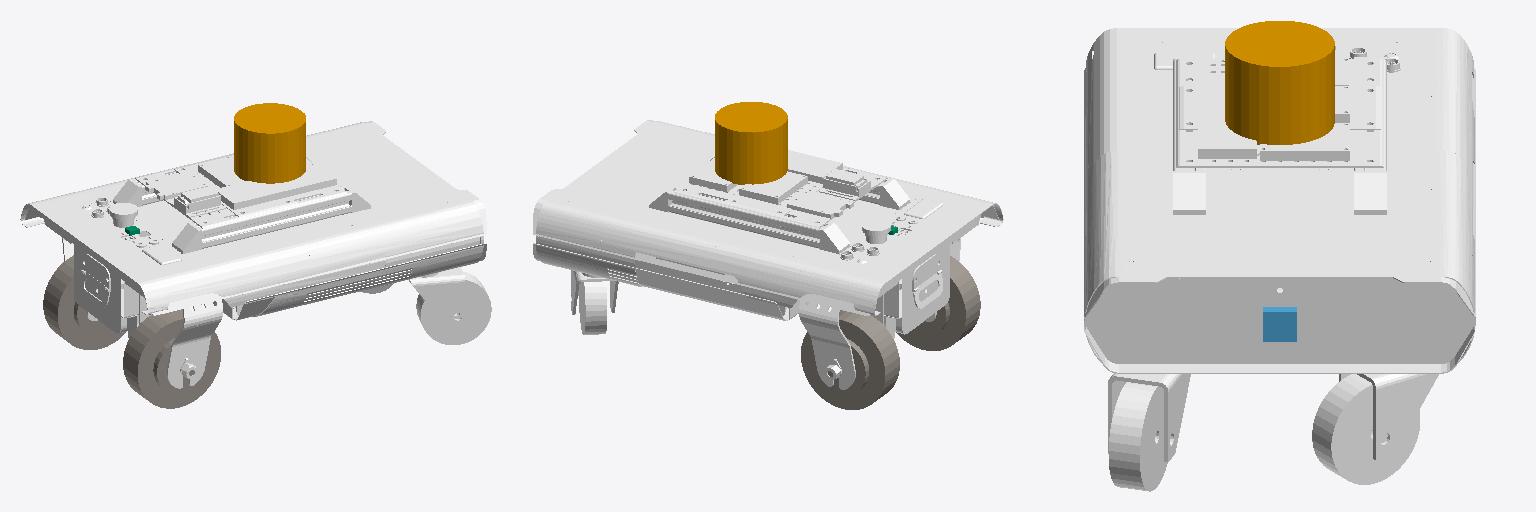
URDF robot description (neor):
<?xml version="1.0" encoding="utf-8"?>
<!-- This URDF was automatically created by SolidWorks to URDF Exporter! Originally created by [author] ([email redacted]) 
     Commit Version: 1.5.1-0-g916b5db  Build Version: 1.5.7152.31018
     For more information, please see http://wiki.ros.org/sw_urdf_exporter -->
<robot
  name="neor">
  <link 
    name="base_link">
    <inertial>
      <origin
        xyz="0.167879507365628 -0.00359252647980702 0.119298610168138"
        rpy="0 0 0" />
      <mass
        value="1.99769813489116" />
      <inertia
        ixx="0.00884194890576968"
        ixy="-2.85763205109085E-07"
        ixz="1.13692269308844E-06"
        iyy="0.0122849475045731"
        iyz="2.62546849263556E-05"
        izz="0.0198557145704335" />
    </inertial>
    <visual>
      <origin
        xyz="0 0 0"
        rpy="0 0 0" />
      <geometry>
        <mesh
          filename="package://neor/meshes/base_link.STL" />
      </geometry>
      <material
        name="">
        <color
          rgba="1 1 1 1" />
      </material>
    </visual>
    <collision>
      <origin
        xyz="0 0 0"
        rpy="0 0 0" />
      <geometry>
        <mesh
          filename="package://neor/meshes/base_link.STL" />
      </geometry>
    </collision>
  </link>
  <link
    name="left_wheel_link">
    <inertial>
      <origin
        xyz="0 2.77555756156289E-17 6.93889390390723E-18"
        rpy="0 0 0" />
      <mass
        value="5.42406230688666" />
      <inertia
        ixx="0.00666461186501377"
        ixy="-4.34780728173011E-17"
        ixz="-3.46065314223795E-08"
        iyy="0.0108754737237616"
        iyz="1.48898597957356E-17"
        izz="0.00666462264232009" />
    </inertial>
    <visual>
      <origin
        xyz="0 0 0"
        rpy="0 0 0" />
      <geometry>
        <mesh
          filename="package://neor/meshes/left_wheel_link.STL" />
      </geometry>
      <material
        name="">
        <color
          rgba="0.647058823529412 0.619607843137255 0.588235294117647 1" />
      </material>
    </visual>
    <collision>
      <origin
        xyz="0 0 0"
        rpy="0 0 0" />
      <geometry>
        <mesh
          filename="package://neor/meshes/left_wheel_link.STL" />
      </geometry>
    </collision>
  </link>
  <joint
    name="left_wheel_joint"
    type="continuous">
    <origin
      xyz="0 0.11025 0"
      rpy="0 0 0" />
    <parent
      link="base_link" />
    <child
      link="left_wheel_link" />
    <axis
      xyz="0 1 0" />
    <limit
      lower="-3.14"
      upper="3.14"
      effort="0"
      velocity="0" />
  </joint>
  <link
    name="right_wheel_Link">
    <inertial>
      <origin
        xyz="1.11022302462516E-16 0 0"
        rpy="0 0 0" />
      <mass
        value="5.42406230688665" />
      <inertia
        ixx="0.00666458263690274"
        ixy="-4.33823931917284E-17"
        ixz="-5.3225217388757E-09"
        iyy="0.0108754737237616"
        iyz="1.47257298016766E-17"
        izz="0.0066646518704311" />
    </inertial>
    <visual>
      <origin
        xyz="0 0 0"
        rpy="0 0 0" />
      <geometry>
        <mesh
          filename="package://neor/meshes/right_wheel_Link.STL" />
      </geometry>
      <material
        name="">
        <color
          rgba="0.647058823529412 0.619607843137255 0.588235294117647 1" />
      </material>
    </visual>
    <collision>
      <origin
        xyz="0 0 0"
        rpy="0 0 0" />
      <geometry>
        <mesh
          filename="package://neor/meshes/right_wheel_Link.STL" />
      </geometry>
    </collision>
  </link>
  <joint
    name="right_wheel_joint"
    type="continuous">
    <origin
      xyz="0 -0.11025 0"
      rpy="0 0 0" />
    <parent
      link="base_link" />
    <child
      link="right_wheel_Link" />
    <axis
      xyz="0 1 0" />
    <limit
      lower="-3.14"
      upper="3.14"
      effort="0"
      velocity="0" />
  </joint>
  <link
    name="left_caster_Link">
    <inertial>
      <origin
        xyz="0.0115894835490932 -0.0160834240912808 -0.0271810314838372"
        rpy="0 0 0" />
      <mass
        value="0.0457759696915572" />
      <inertia
        ixx="4.32568497674313E-05"
        ixy="-2.58020492610068E-06"
        ixz="4.86678404730977E-06"
        iyy="4.49782650453277E-05"
        iyz="-6.75393340776466E-06"
        izz="4.36074022403523E-05" />
    </inertial>
    <visual>
      <origin
        xyz="0 0 0"
        rpy="0 0 0" />
      <geometry>
        <mesh
          filename="package://neor/meshes/left_caster_Link.STL" />
      </geometry>
      <material
        name="">
        <color
          rgba="1 1 1 1" />
      </material>
    </visual>
    <collision>
      <origin
        xyz="0 0 0"
        rpy="0 0 0" />
      <geometry>
        <mesh
          filename="package://neor/meshes/left_caster_Link.STL" />
      </geometry>
    </collision>
  </link>
  <joint
    name="left_caster_joint"
    type="continuous">
    <origin
      xyz="0.4006 0.1125 0.0465"
      rpy="0 0 0" />
    <parent
      link="base_link" />
    <child
      link="left_caster_Link" />
    <axis
      xyz="0 0 -1" />
    <limit
      lower="-3.14"
      upper="3.14"
      effort="0"
      velocity="0" />
  </joint>
  <link
    name="left_caster_wheel_Link">
    <inertial>
      <origin
        xyz="0 1.38777878078145E-17 0"
        rpy="0 0 0" />
      <mass
        value="0.232226528953357" />
      <inertia
        ixx="0.000250095566342319"
        ixy="6.15717679394067E-05"
        ixz="2.21629952945565E-19"
        iyy="0.000209016281398468"
        iyz="1.5657790917171E-19"
        izz="0.00016464860902793" />
    </inertial>
    <visual>
      <origin
        xyz="0 0 0"
        rpy="0 0 0" />
      <geometry>
        <mesh
          filename="package://neor/meshes/left_caster_wheel_Link.STL" />
      </geometry>
      <material
        name="">
        <color
          rgba="1 1 1 1" />
      </material>
    </visual>
    <collision>
      <origin
        xyz="0 0 0"
        rpy="0 0 0" />
      <geometry>
        <mesh
          filename="package://neor/meshes/left_caster_wheel_Link.STL" />
      </geometry>
    </collision>
  </link>
  <joint
    name="left_caster_wheel_joint"
    type="continuous">
    <origin
      xyz="0.024532 -0.034044 -0.066"
      rpy="0 0 0" />
    <parent
      link="left_caster_Link" />
    <child
      link="left_caster_wheel_Link" />
    <axis
      xyz="-0.81131 -0.58462 0" />
  </joint>
  <link
    name="right_caster_Link">
    <inertial>
      <origin
        xyz="0.0188041520422844 -0.00627670432990625 -0.0271810284056899"
        rpy="0 0 0" />
      <mass
        value="0.0457759516780475" />
      <inertia
        ixx="4.62921637504073E-05"
        ixy="-1.63379166334245E-06"
        ixz="7.89645340975582E-06"
        iyy="4.194292119082E-05"
        iyz="-2.6357777730359E-06"
        izz="4.36073573670601E-05" />
    </inertial>
    <visual>
      <origin
        xyz="0 0 0"
        rpy="0 0 0" />
      <geometry>
        <mesh
          filename="package://neor/meshes/right_caster_Link.STL" />
      </geometry>
      <material
        name="">
        <color
          rgba="1 1 1 1" />
      </material>
    </visual>
    <collision>
      <origin
        xyz="0 0 0"
        rpy="0 0 0" />
      <geometry>
        <mesh
          filename="package://neor/meshes/right_caster_Link.STL" />
      </geometry>
    </collision>
  </link>
  <joint
    name="right_caster_joint"
    type="continuous">
    <origin
      xyz="0.4006 -0.1125 0.0465"
      rpy="0 0 0" />
    <parent
      link="base_link" />
    <child
      link="right_caster_Link" />
    <axis
      xyz="0 0 -1" />
    <limit
      lower="-3.14"
      upper="3.14"
      effort="0"
      velocity="0" />
  </joint>
  <link
    name="right_caster_wheel_Link">
    <inertial>
      <origin
        xyz="-5.55111512312578E-17 0 0"
        rpy="0 0 0" />
      <mass
        value="0.232226528953358" />
      <inertia
        ixx="0.00017766232401311"
        ixy="3.89873545385007E-05"
        ixz="1.36110275740017E-19"
        iyy="0.000281449523727678"
        iyz="4.07814885635416E-19"
        izz="0.000164648609027931" />
    </inertial>
    <visual>
      <origin
        xyz="0 0 0"
        rpy="0 0 0" />
      <geometry>
        <mesh
          filename="package://neor/meshes/right_caster_wheel_Link.STL" />
      </geometry>
      <material
        name="">
        <color
          rgba="1 1 1 1" />
      </material>
    </visual>
    <collision>
      <origin
        xyz="0 0 0"
        rpy="0 0 0" />
      <geometry>
        <mesh
          filename="package://neor/meshes/right_caster_wheel_Link.STL" />
      </geometry>
    </collision>
  </link>
  <joint
    name="right_caster_wheel_joint"
    type="continuous">
    <origin
      xyz="0.039803 -0.013286 -0.066"
      rpy="0 0 0" />
    <parent
      link="right_caster_Link" />
    <child
      link="right_caster_wheel_Link" />
    <axis
      xyz="-0.31662 -0.94855 0" />
  </joint>

  <!--  手动添加深度摄像头模型  -->
  <link name="deep_camera_link">
    <visual>
      <geometry>
        <mesh filename="package://neor/meshes/kinect_Link.STL"/>
      </geometry>
    </visual>
  </link>
  <joint name ="deep_camera_joints" type="fixed">
    <origin xyz="0.40 0.0 0.2" rpy="-1.57 0.0 -1.57"/>
    <parent link="base_link"/>
    <child link="deep_camera_link"/>
  </joint>
<!--*********************************************************************-->
 
  <!--  手动添加激光雷达模型 -->
  <link name="laser_link">
    <visual>
      <geometry>
        <cylinder length="0.08" radius="0.05"/>
      </geometry>
    </visual>
  </link>
  <joint name ="2Dlaser_joints" type="fixed">
    <origin xyz="0.22 0.0 0.23" rpy="0.0 0.0 0.0"/>
    <parent link="base_link"/>
    <child link="laser_link"/>
  </joint>
<!--*********************************************************************-->
 
 <!--  手动添加摄像头模型   -->
<link name="camera_link">
    <visual>
      <geometry>
        <box size="0.03 0.03 0.03"/>
      </geometry>
    </visual>
  </link>
  <joint name ="camera_joints" type="fixed">
    <origin xyz="0.45 0.0 0.10" rpy="0.0 0.0 0.0"/>
    <parent link="base_link"/>
    <child link="camera_link"/>
  </joint>
<!--*********************************************************************-->

  <!--  手动添加imu模型   -->
  <link name="imu_link">
    <visual>
      <geometry>
        <box size="0.015 0.015 0.007"/>
      </geometry>
    </visual>
  </link>
  <joint name ="imu_joints" type="fixed">
    <origin xyz="0.0 0.0 0.15" rpy="0.0 0.0 0.0"/>
    <parent link="base_link"/>
    <child link="imu_link"/>
  </joint>
<!--*********************************************************************-->
</robot>

--- What the picture shows (computed from the rendered views, not written in the file) ---
3 views of the same robot in one strip: view 1: azimuth 30°, elevation 25°; view 2: azimuth 150°, elevation 25°; view 3: azimuth 270°, elevation 25° (orthographic).
Robot: neor — 11 links, 10 joints (6 continuous, 4 fixed); root link base_link; default pose: every joint at zero.
Links seen in each view (by area): view 1: base_link, laser_link, right_wheel_Link, left_wheel_link, right_caster_wheel_Link, right_caster_Link; view 2: base_link, laser_link, left_wheel_link, right_wheel_Link, left_caster_wheel_Link, left_caster_Link; view 3: base_link, laser_link, left_caster_wheel_Link, right_caster_wheel_Link, left_caster_Link, right_caster_Link, camera_link.
Link boxes in pixels (<box>): base_link: <box>20,121,486,388</box>; laser_link: <box>234,103,305,183</box>; right_wheel_Link: <box>123,309,220,408</box>; left_wheel_link: <box>43,255,125,349</box>; right_caster_wheel_Link: <box>416,272,491,344</box>; right_caster_Link: <box>409,267,464,329</box>; base_link: <box>533,120,1003,389</box>; laser_link: <box>715,102,787,184</box>; left_wheel_link: <box>801,310,899,409</box>; right_wheel_Link: <box>896,256,980,350</box>; left_caster_wheel_Link: <box>578,281,606,334</box>; left_caster_Link: <box>571,270,618,314</box>; base_link: <box>1084,28,1475,373</box>; laser_link: <box>1225,21,1334,144</box>; left_caster_wheel_Link: <box>1312,374,1419,484</box>; right_caster_wheel_Link: <box>1109,382,1167,491</box>; left_caster_Link: <box>1339,374,1438,459</box>; right_caster_Link: <box>1108,373,1190,461</box>; camera_link: <box>1263,307,1296,341</box>.
Size in the robot's own frame: 0.5688 by 0.357 by 0.3395 metres.
7 mesh visuals loaded from 8 distinct referenced files (7 binary STL); not drawn: 1 (reference not matched to a file when rendering).
